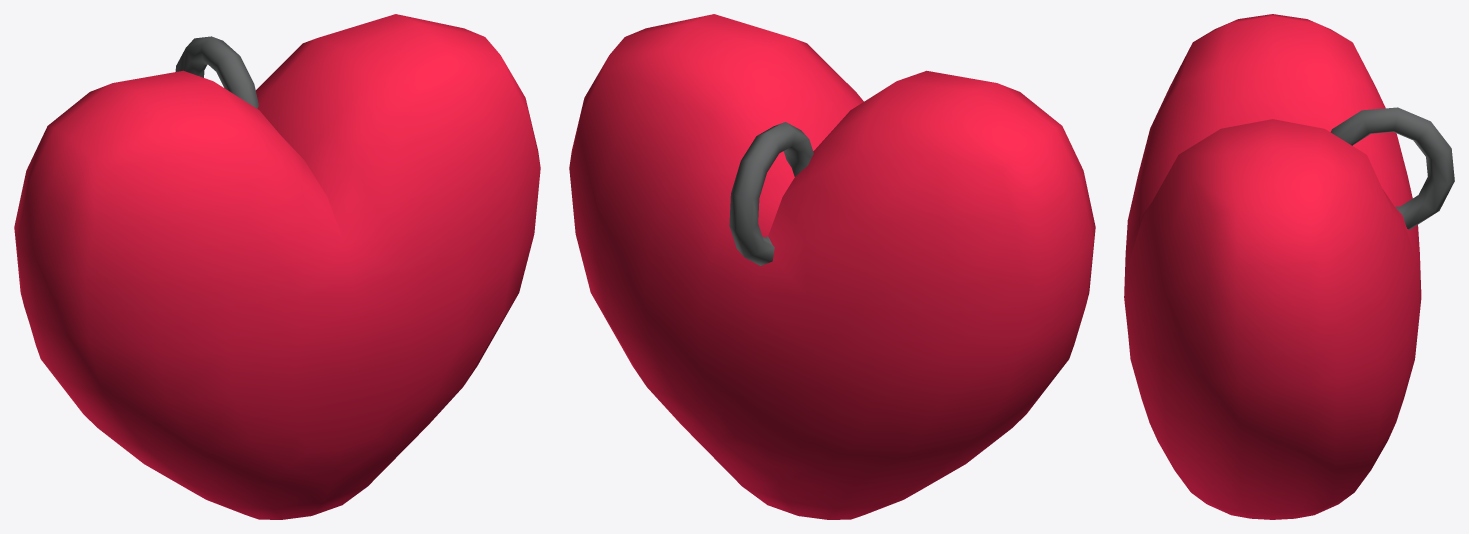
The model's file is Charm_06.fbx.
3 renders of one model, left to right at view 1: azimuth 30°, elevation 25°; view 2: azimuth 150°, elevation 25°; view 3: azimuth 270°, elevation 25°, orthographic. The views are drawn at different scales.
Visible parts, largest first — view 1: Charm_06; view 2: Charm_06; view 3: Charm_06.
Part boxes in pixels (bbox=[...]): Charm_06: bbox=[14, 14, 540, 519]; Charm_06: bbox=[569, 14, 1095, 519]; Charm_06: bbox=[1124, 14, 1454, 519].
Bounding box in the file's own units: 4.87 × 4.24 × 2.97.
